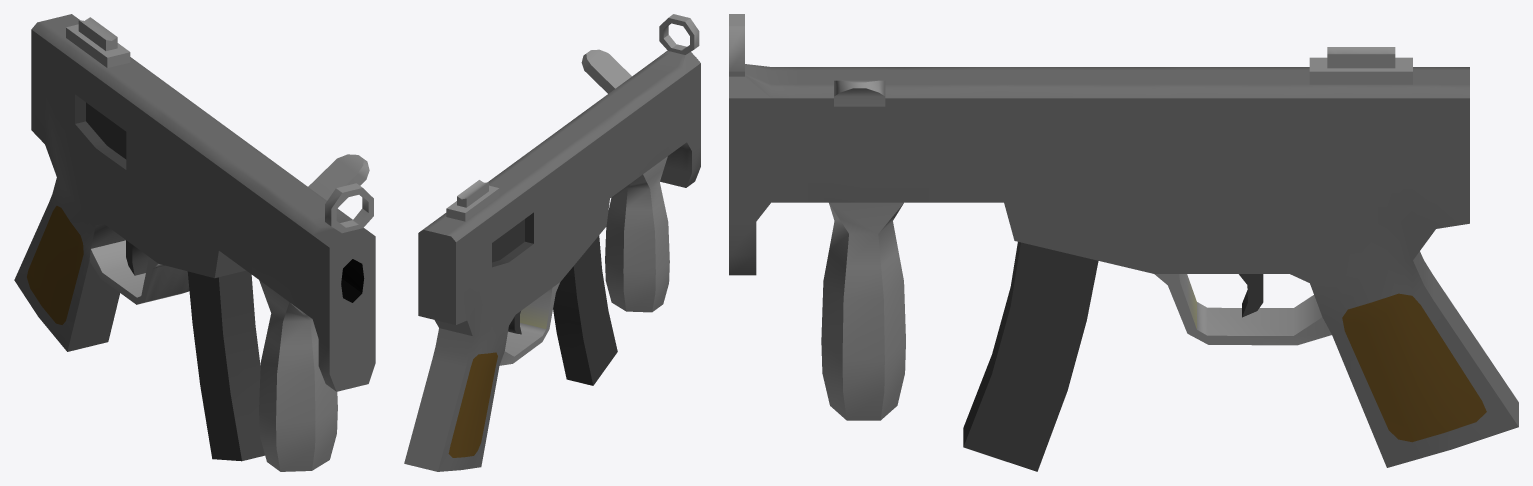
File: 04-Compact-SMG.glb
3 renders of one model, left to right at view 1: azimuth 30°, elevation 25°; view 2: azimuth 150°, elevation 25°; view 3: azimuth 270°, elevation 25°, orthographic. The views are drawn at different scales.
Visible parts, largest first — view 1: Compact SMG; view 2: Compact SMG; view 3: Compact SMG.
Part boxes in pixels (x1,y1,x2,y2): Compact SMG: [14, 14, 375, 471]; Compact SMG: [404, 14, 700, 471]; Compact SMG: [729, 14, 1518, 471].
Bounding box in the file's own units: 0.092 × 0.3272 × 0.53.
Materials: 1 (1 with a texture image).
